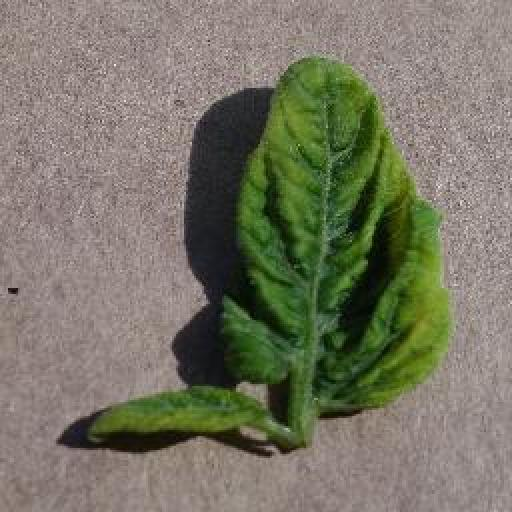Yellow Leaf Curl Virus: (215, 55, 453, 413), (88, 387, 269, 445)
